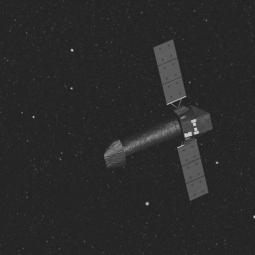xmm_newton: (88, 60, 216, 188)
